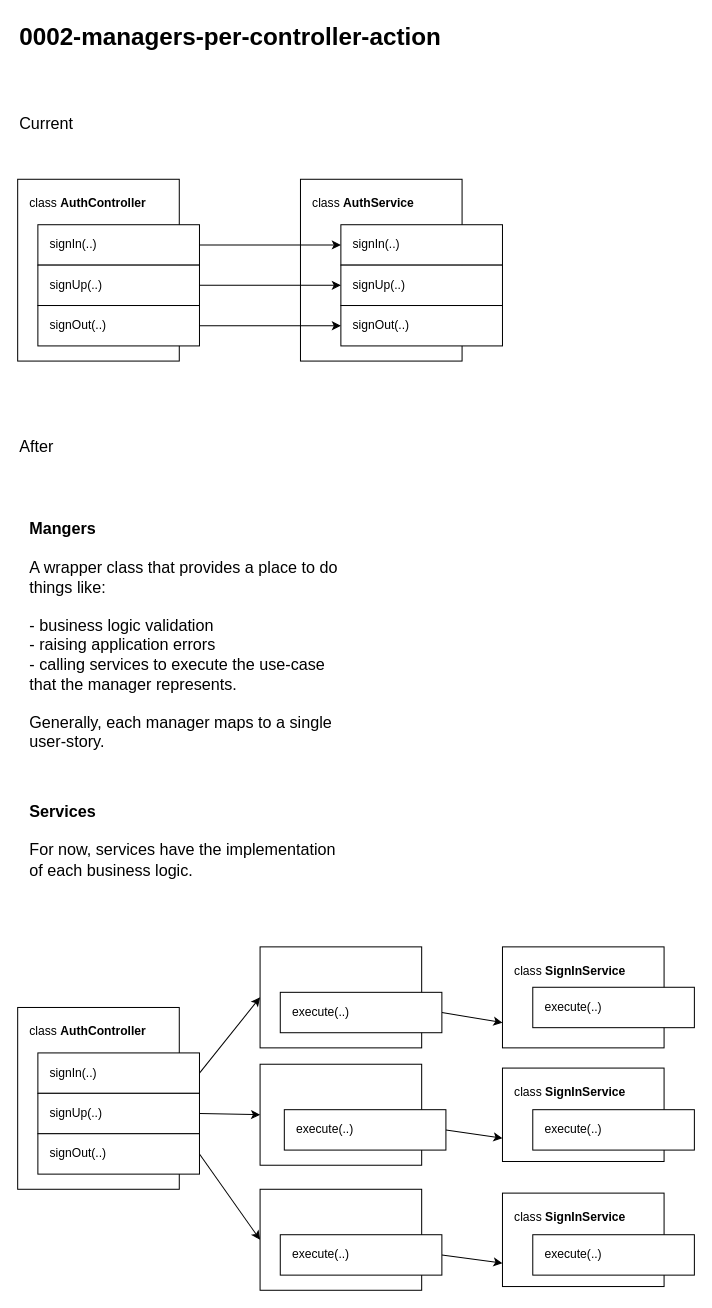
The diagram is 712 pixels wide and 1308 high, and some of its shapes have lost their labels. Each missing label, with the box of its shape:
class SignInManager: (259, 946, 422, 1048)
class SignOutManager: (259, 1188, 422, 1290)
class SignUpManager: (259, 1063, 422, 1165)
